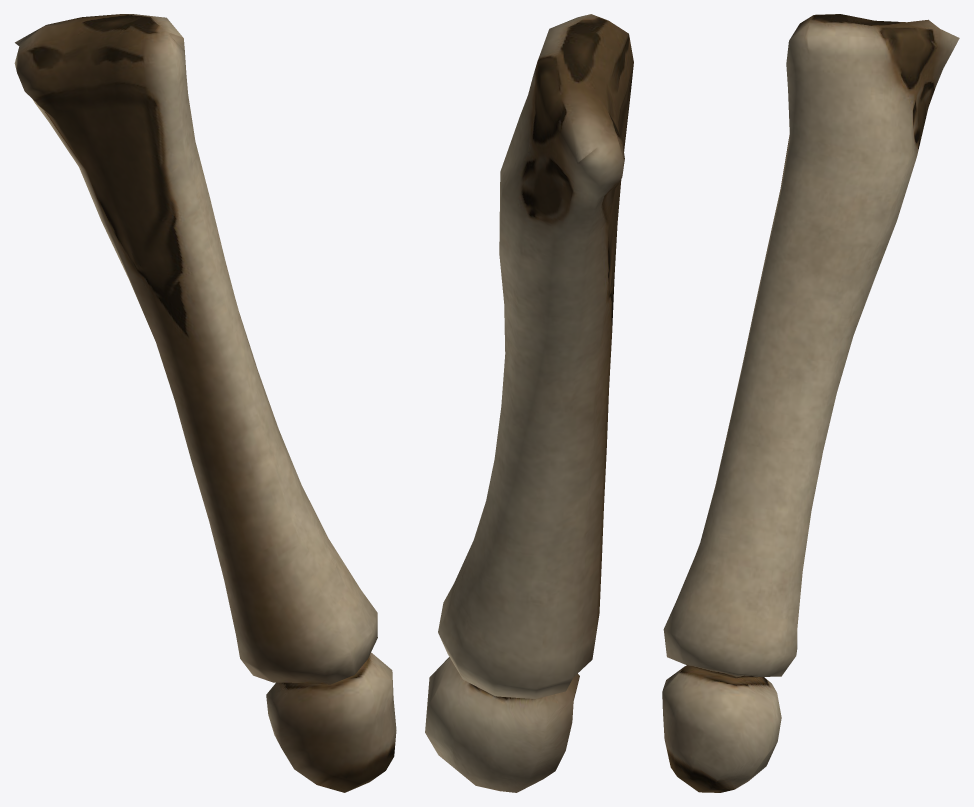
The model's file is Metatarsal_II.glb.
The picture shows the model from 3 angles, left to right: view 1: azimuth 30°, elevation 25°; view 2: azimuth 150°, elevation 25°; view 3: azimuth 270°, elevation 25°; orthographic projection. The views are drawn at different scales.
Visible parts, largest first — view 1: Metatarsal_II_Right1:Group65477; view 2: Metatarsal_II_Right1:Group65477; view 3: Metatarsal_II_Right1:Group65477.
Boxes of the visible parts, <box> form: Metatarsal_II_Right1:Group65477: <box>14,14,396,792</box>; Metatarsal_II_Right1:Group65477: <box>425,14,633,792</box>; Metatarsal_II_Right1:Group65477: <box>662,14,959,792</box>.
Size of the model in its own units: 19.14 by 51 by 19.43.
1 material, 1 textured.
